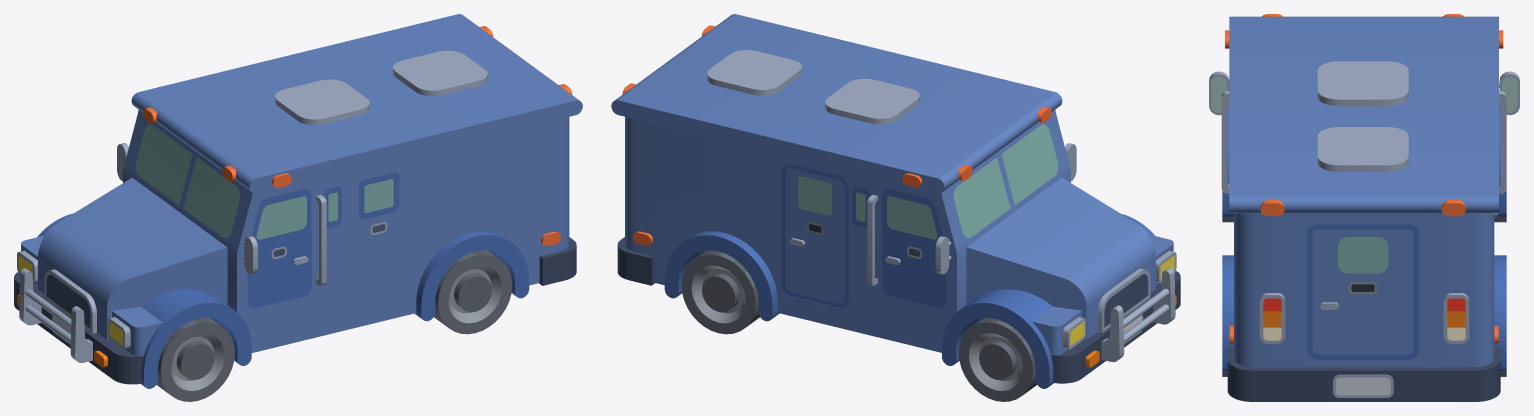
Rendered from Cash Secure Truck.fbx.
The picture shows the model from 3 angles, left to right: view 1: azimuth 30°, elevation 25°; view 2: azimuth 150°, elevation 25°; view 3: azimuth 270°, elevation 25°; orthographic projection. The views are drawn at different scales.
Parts seen in each view (by area): view 1: Cash Secure Truck, Cash Secure Truck Wheel, Cash Secure Truck Wheel.001; view 2: Cash Secure Truck, Cash Secure Truck Door, Cash Secure Truck Wheel.001, Cash Secure Truck Wheel; view 3: Cash Secure Truck, Cash Secure Truck Door.001.
Part boxes in pixels (box(x1,y1,x2,y2)): Cash Secure Truck: box(14, 14, 582, 388); Cash Secure Truck Wheel: box(156, 318, 234, 401); Cash Secure Truck Wheel.001: box(434, 250, 512, 334); Cash Secure Truck: box(611, 14, 1180, 388); Cash Secure Truck Door: box(781, 164, 848, 308); Cash Secure Truck Wheel.001: box(681, 250, 759, 334); Cash Secure Truck Wheel: box(958, 318, 1037, 401); Cash Secure Truck: box(1209, 14, 1519, 401); Cash Secure Truck Door.001: box(1307, 224, 1419, 359).
Bounding box in the file's own units: 1281 × 538 × 628.
